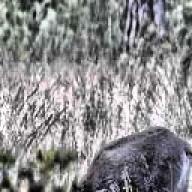boar: (64, 124, 192, 192)
